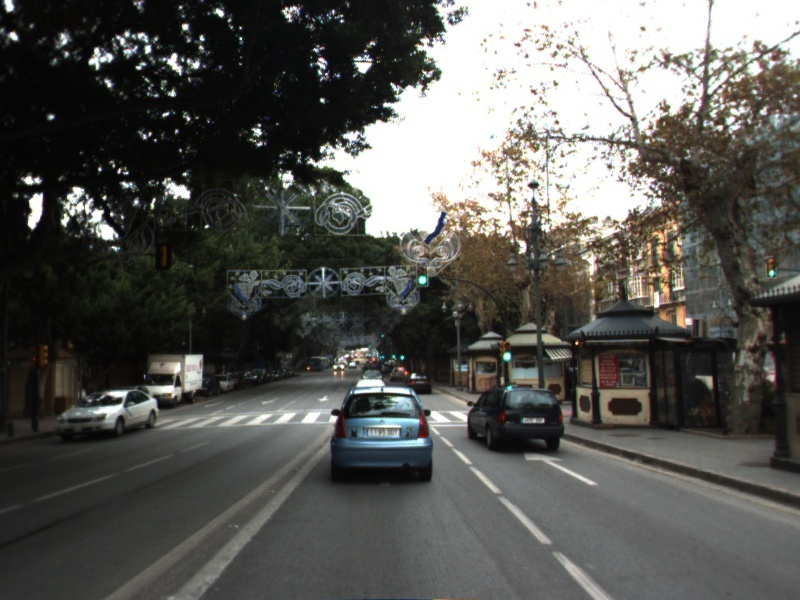STRAIGHT: (522, 449, 601, 487)
